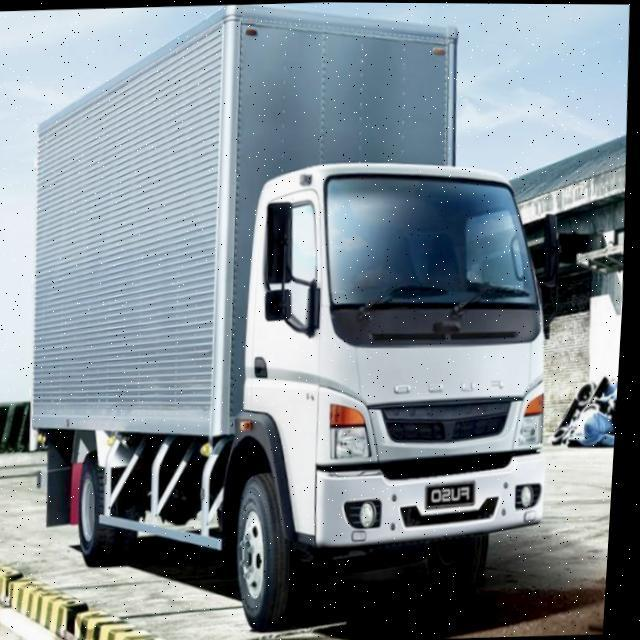truck: (11, 0, 584, 638)
